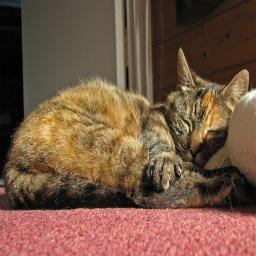catnose: (188, 142, 202, 158)
